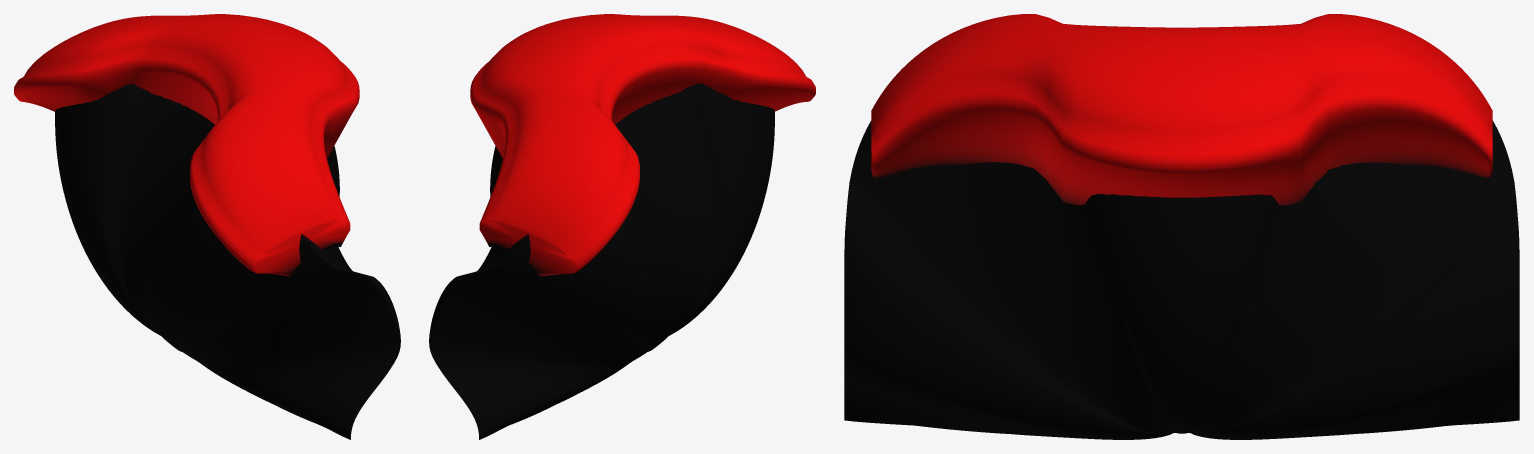
File: giant_clam.glb
The picture shows the model from 3 angles, left to right: view 1: azimuth 30°, elevation 25°; view 2: azimuth 150°, elevation 25°; view 3: azimuth 270°, elevation 25°; orthographic projection. The views are drawn at different scales.
Visible parts, largest first — view 1: giant_clam; view 2: giant_clam; view 3: giant_clam.
Part boxes in pixels (x1,y1,x2,y2): giant_clam: (14,14,400,439); giant_clam: (429,14,815,439); giant_clam: (844,14,1519,439).
Size of the model in its own units: 0.5151 by 0.6516 by 1.
